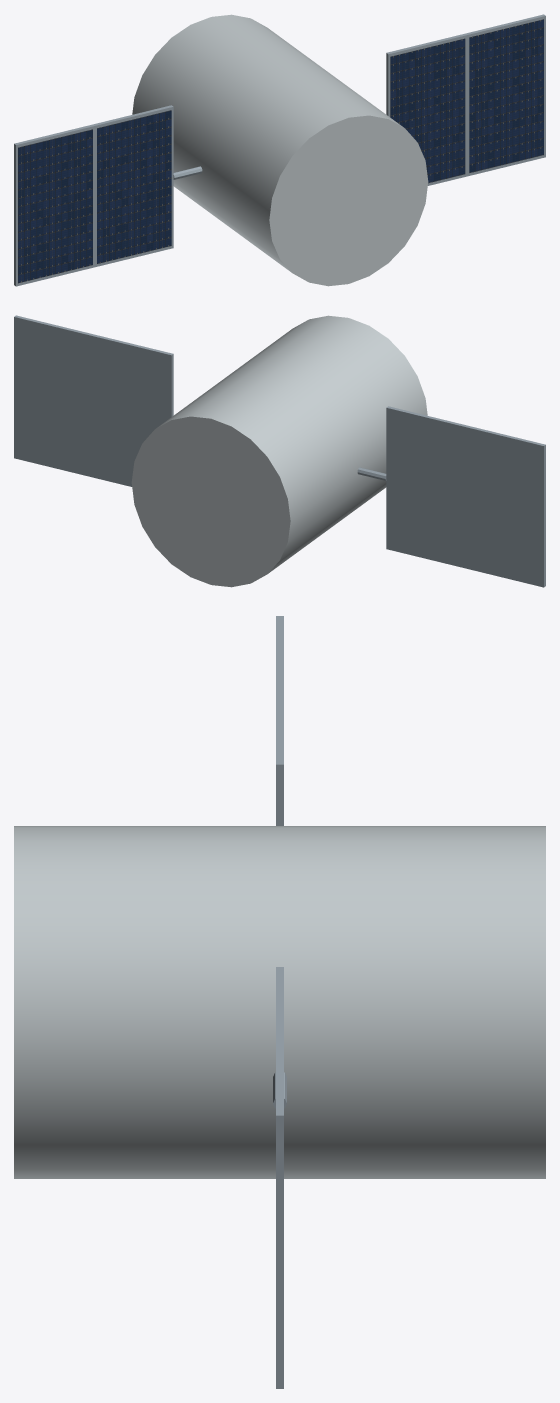
The model's file is ref-saocom-37673.glb.
3 renders of one model, top to bottom at view 1: azimuth 30°, elevation 25°; view 2: azimuth 150°, elevation 25°; view 3: azimuth 270°, elevation 25°, orthographic. The views are drawn at different scales.
Parts seen in each view (by area): view 1: Spacecraft body, Photovoltaic laminates (×4), Array frame (×4); view 2: Spacecraft body, Array frame (×4); view 3: Spacecraft body, Array frame (×2).
Part boxes in pixels (<box>): Spacecraft body: <box>132,14,428,286</box>; Photovoltaic laminates (×4): <box>18,19,543,283</box>; Array frame (×4): <box>14,14,545,286</box>; Spacecraft body: <box>131,315,427,587</box>; Array frame (×4): <box>14,315,545,587</box>; Spacecraft body: <box>14,826,545,1178</box>; Array frame (×2): <box>276,690,283,1388</box>.
Size of the model in its own units: 10 by 3 by 4.5.
Materials: 3 (1 with a texture image).
